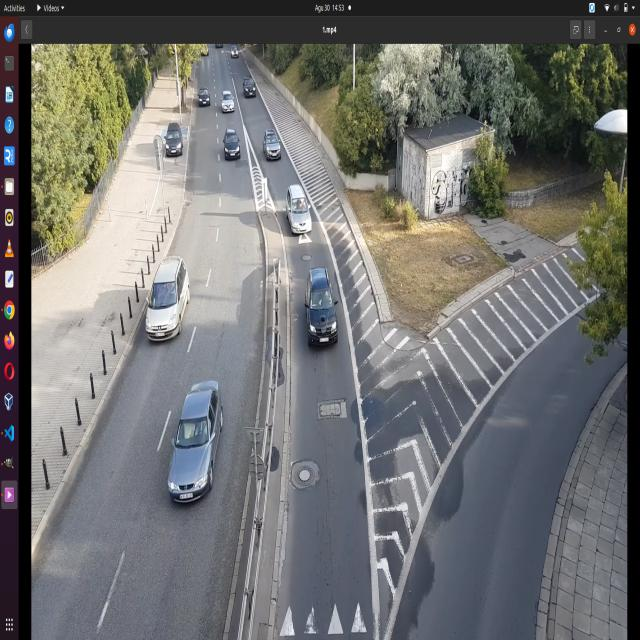person_with_seatbelt: (200, 418, 212, 438), (298, 198, 309, 212)
person_without_seatbelt: (184, 416, 194, 441), (322, 289, 331, 308)
